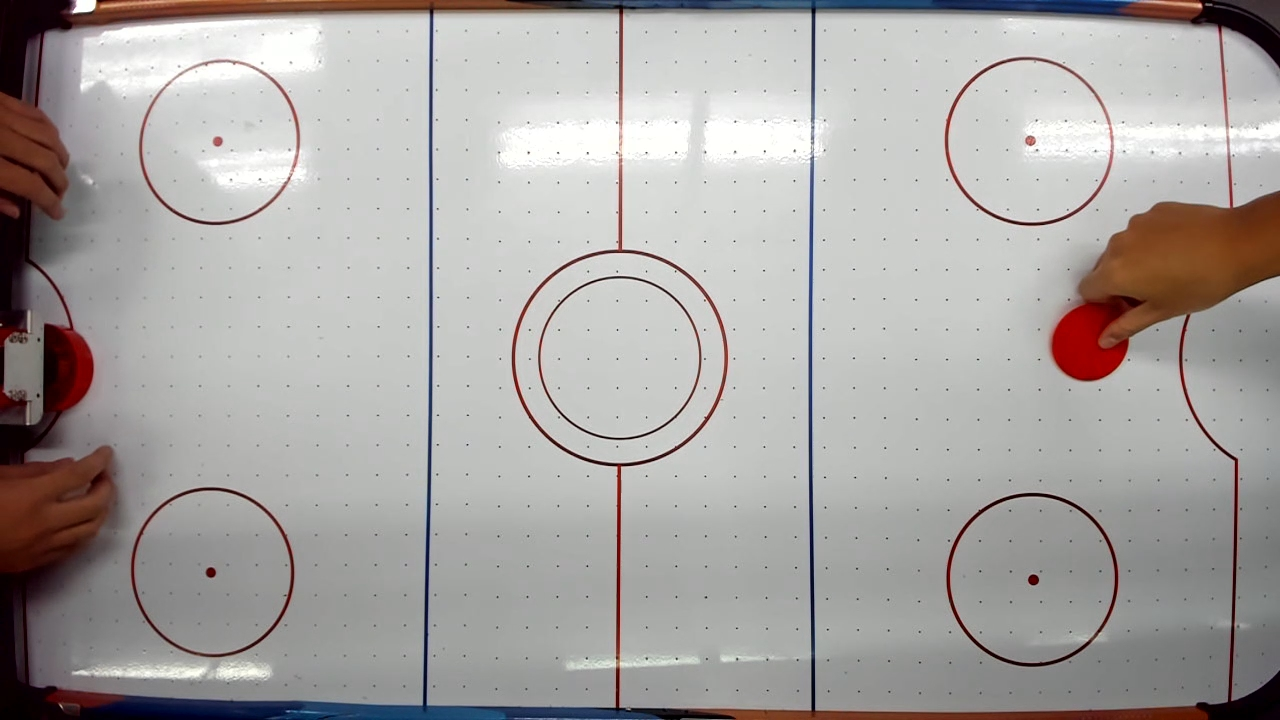ball: (1053, 308, 1135, 390)
